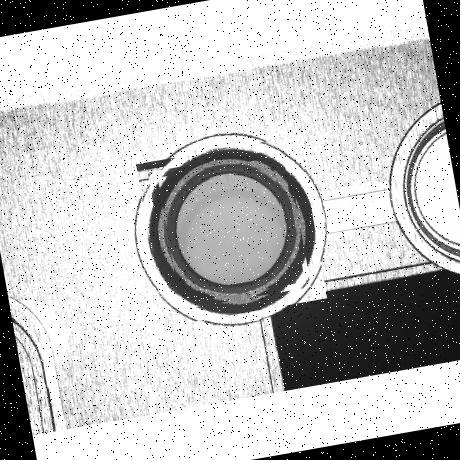Hole: (135, 134, 327, 328)
Hole2: (147, 147, 311, 311)
Hole3: (157, 156, 305, 304)
Hole4: (167, 168, 293, 292)
